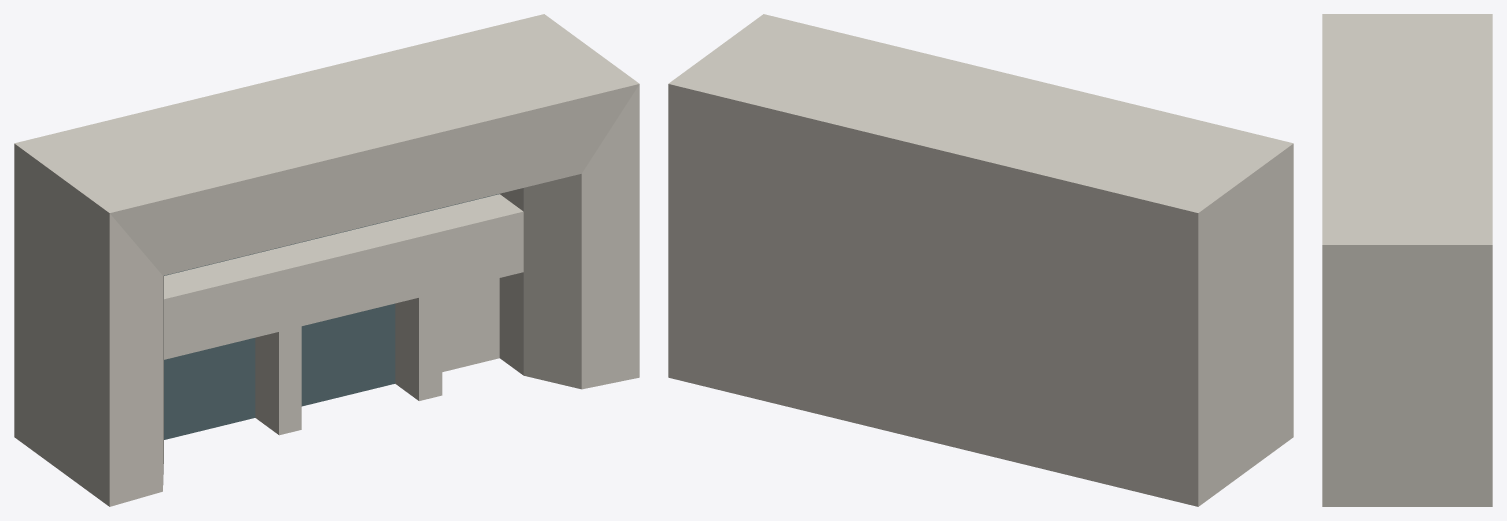
Rendered from Building73.fbx.
3 renders of one model, left to right at view 1: azimuth 30°, elevation 25°; view 2: azimuth 150°, elevation 25°; view 3: azimuth 270°, elevation 25°, orthographic. The views are drawn at different scales.
Visible parts, largest first — view 1: 큐브; view 2: 큐브; view 3: 큐브.
Part boxes in pixels (x1,y1,x2,y2): 큐브: (14,14,639,506); 큐브: (668,14,1293,506); 큐브: (1322,14,1492,506).
Bounding box in the file's own units: 1517 × 4866 × 2577.
